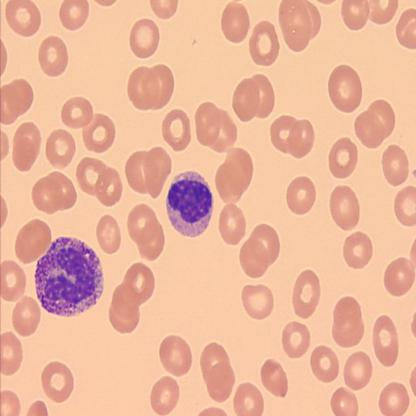Band Neutrophil: (33, 233, 107, 318), (164, 168, 214, 239)
